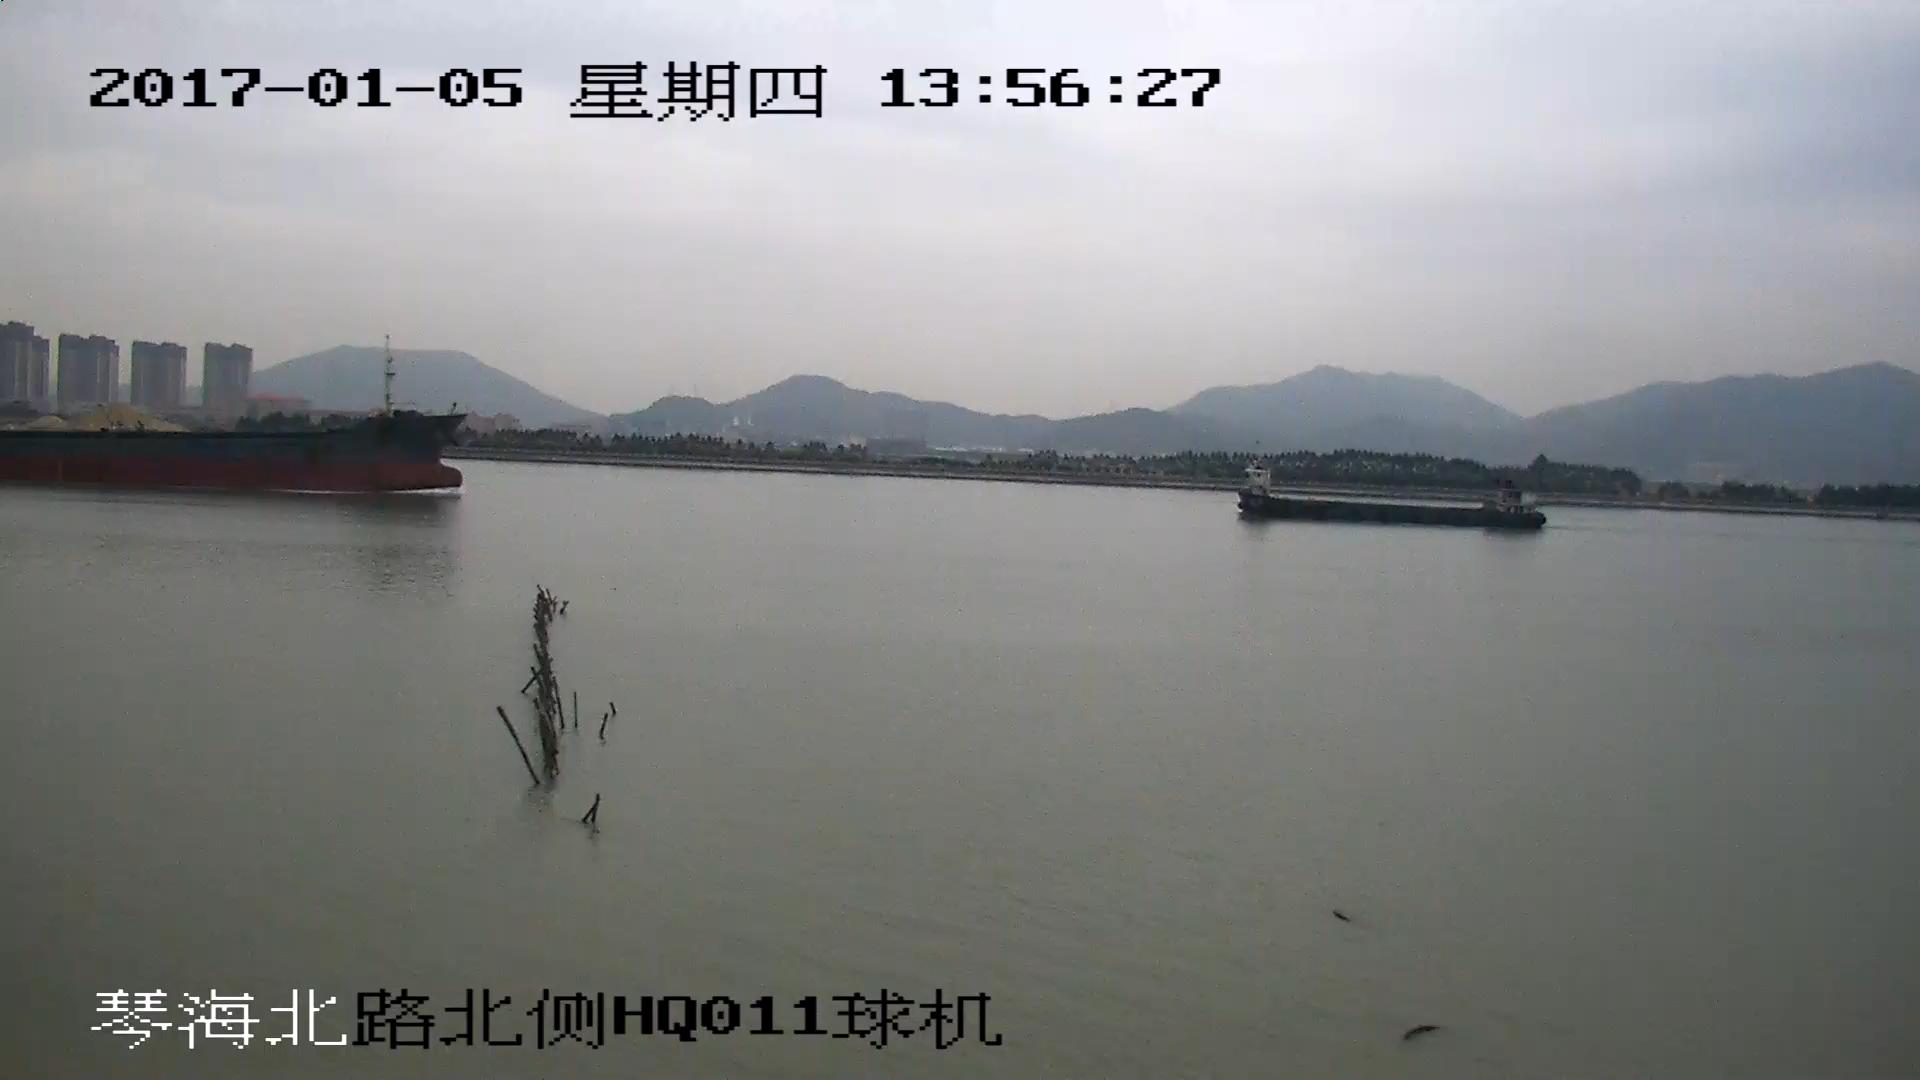general cargo ship: (1, 340, 465, 494), (1233, 465, 1545, 533)
